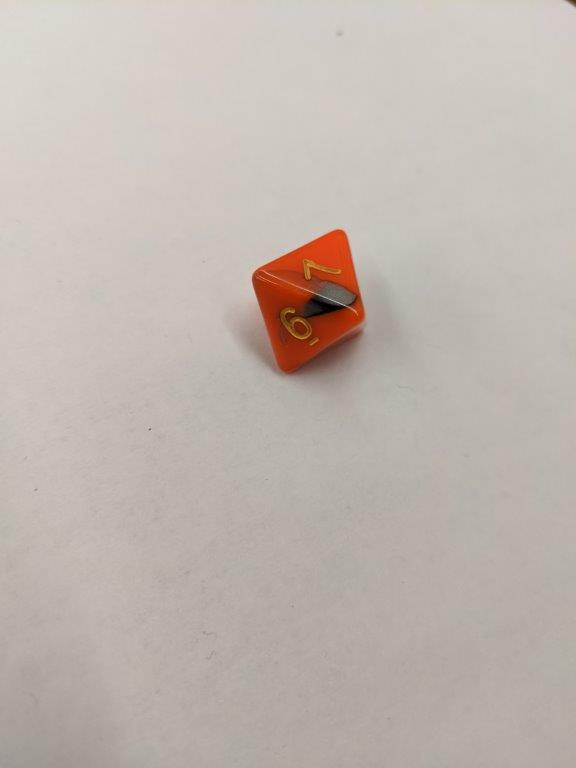d8-7: (252, 230, 369, 374)
